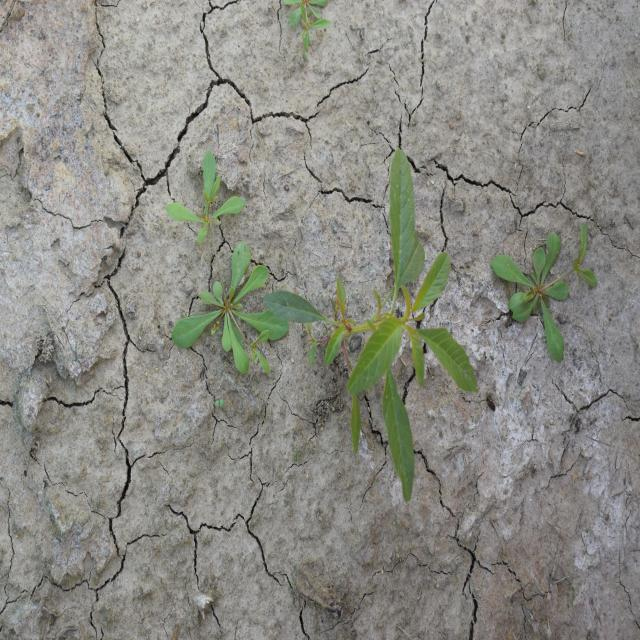Carpetweed: (164, 148, 290, 376), (490, 222, 598, 363), (281, 1, 332, 62)
Waterhemp: (261, 144, 479, 506)
